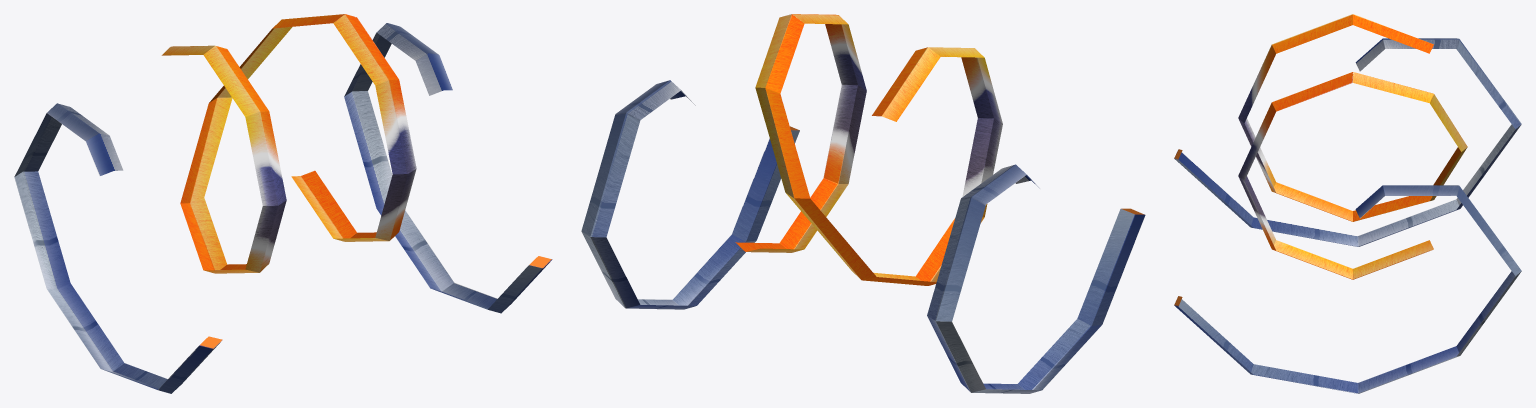
File: maskB_2.obj
3 renders of one model, left to right at view 1: azimuth 30°, elevation 25°; view 2: azimuth 150°, elevation 25°; view 3: azimuth 270°, elevation 25°, orthographic. The views are drawn at different scales.
Visible parts, largest first — view 1: spiral_tube, foot_R, foot_L; view 2: spiral_tube, foot_R, foot_L; view 3: spiral_tube, foot_L, foot_R.
Part boxes in pixels (x1=…): spiral_tube: x1=161, y1=14, x2=416, y2=273; foot_R: x1=14, y1=103, x2=222, y2=393; foot_L: x1=344, y1=23, x2=552, y2=313; spiral_tube: x1=735, y1=14, x2=1002, y2=285; foot_R: x1=927, y1=164, x2=1145, y2=393; foot_L: x1=581, y1=80, x2=799, y2=309; spiral_tube: x1=1238, y1=14, x2=1467, y2=279; foot_L: x1=1174, y1=185, x2=1521, y2=393; foot_R: x1=1174, y1=38, x2=1521, y2=246.
Bounding box in the file's own units: 276 × 227 × 257.
1 material, 1 textured.
